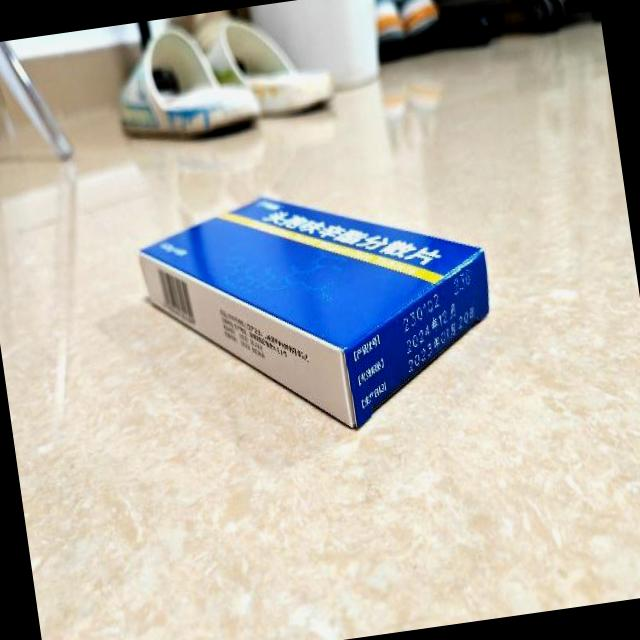box: (132, 165, 505, 456)
